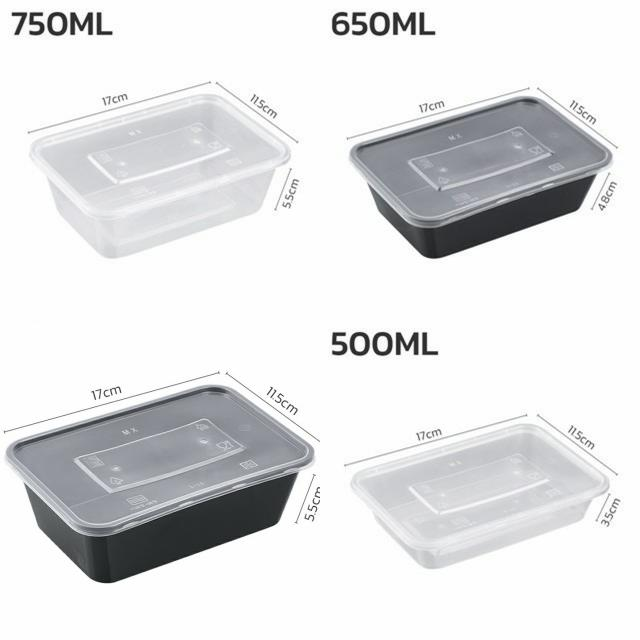Single-Use-Plastic: (6, 385, 314, 582), (31, 84, 290, 258), (350, 96, 612, 258), (352, 422, 608, 568)
